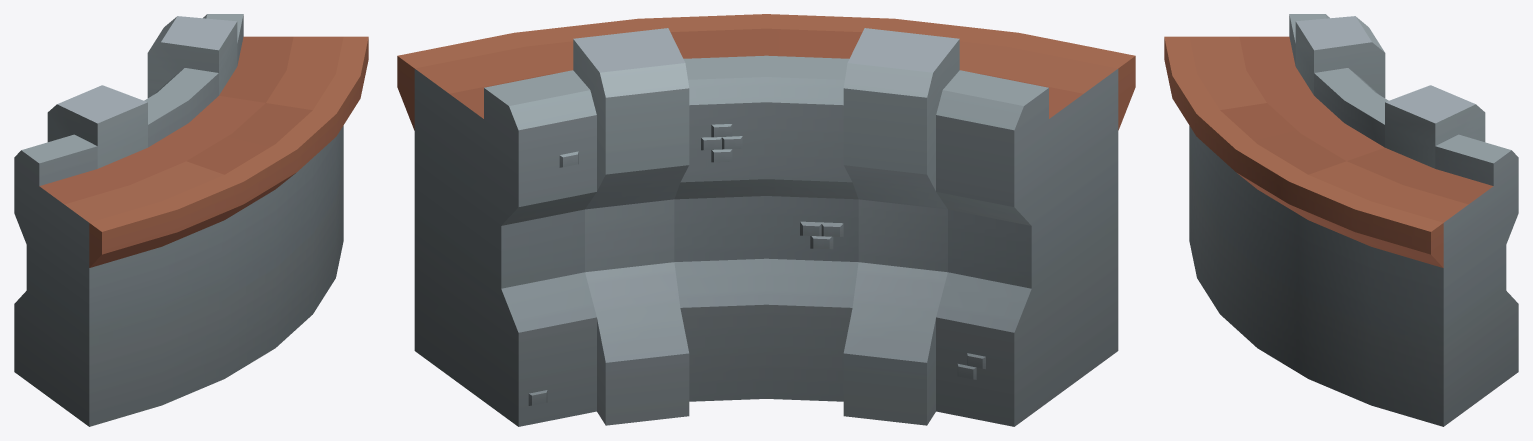
File: kaykit-medieval-hexagon-pack-wall-corner-a-inside.glb
3 views of the same model, side by side, from view 1: azimuth 30°, elevation 25°; view 2: azimuth 150°, elevation 25°; view 3: azimuth 270°, elevation 25° (orthographic). The views are drawn at different scales.
Visible parts, largest first — view 1: wall_corner_A_inside; view 2: wall_corner_A_inside; view 3: wall_corner_A_inside.
Part boxes in pixels (x1,y1,x2,y2): wall_corner_A_inside: (14,14,368,426); wall_corner_A_inside: (397,14,1135,426); wall_corner_A_inside: (1164,14,1518,426).
Bounding box in the file's own units: 1.85 × 1.1 × 1.42.
1 material, 1 textured.
